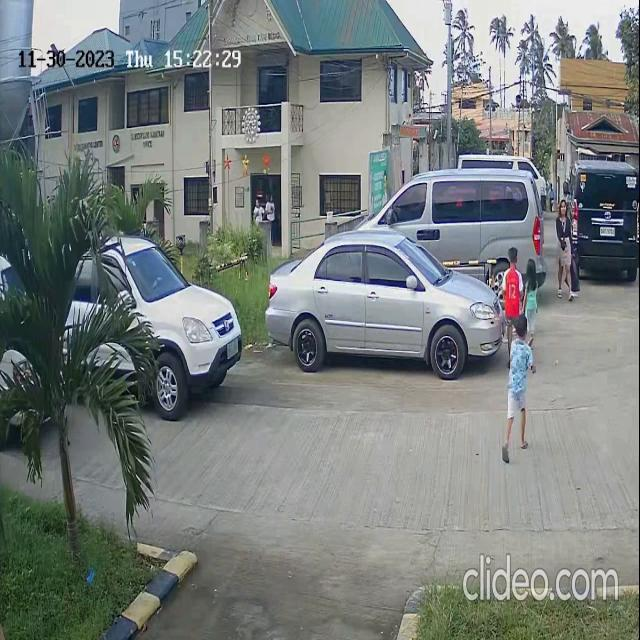person: (504, 317, 532, 451), (556, 214, 582, 305), (501, 245, 522, 325), (525, 258, 541, 330)
